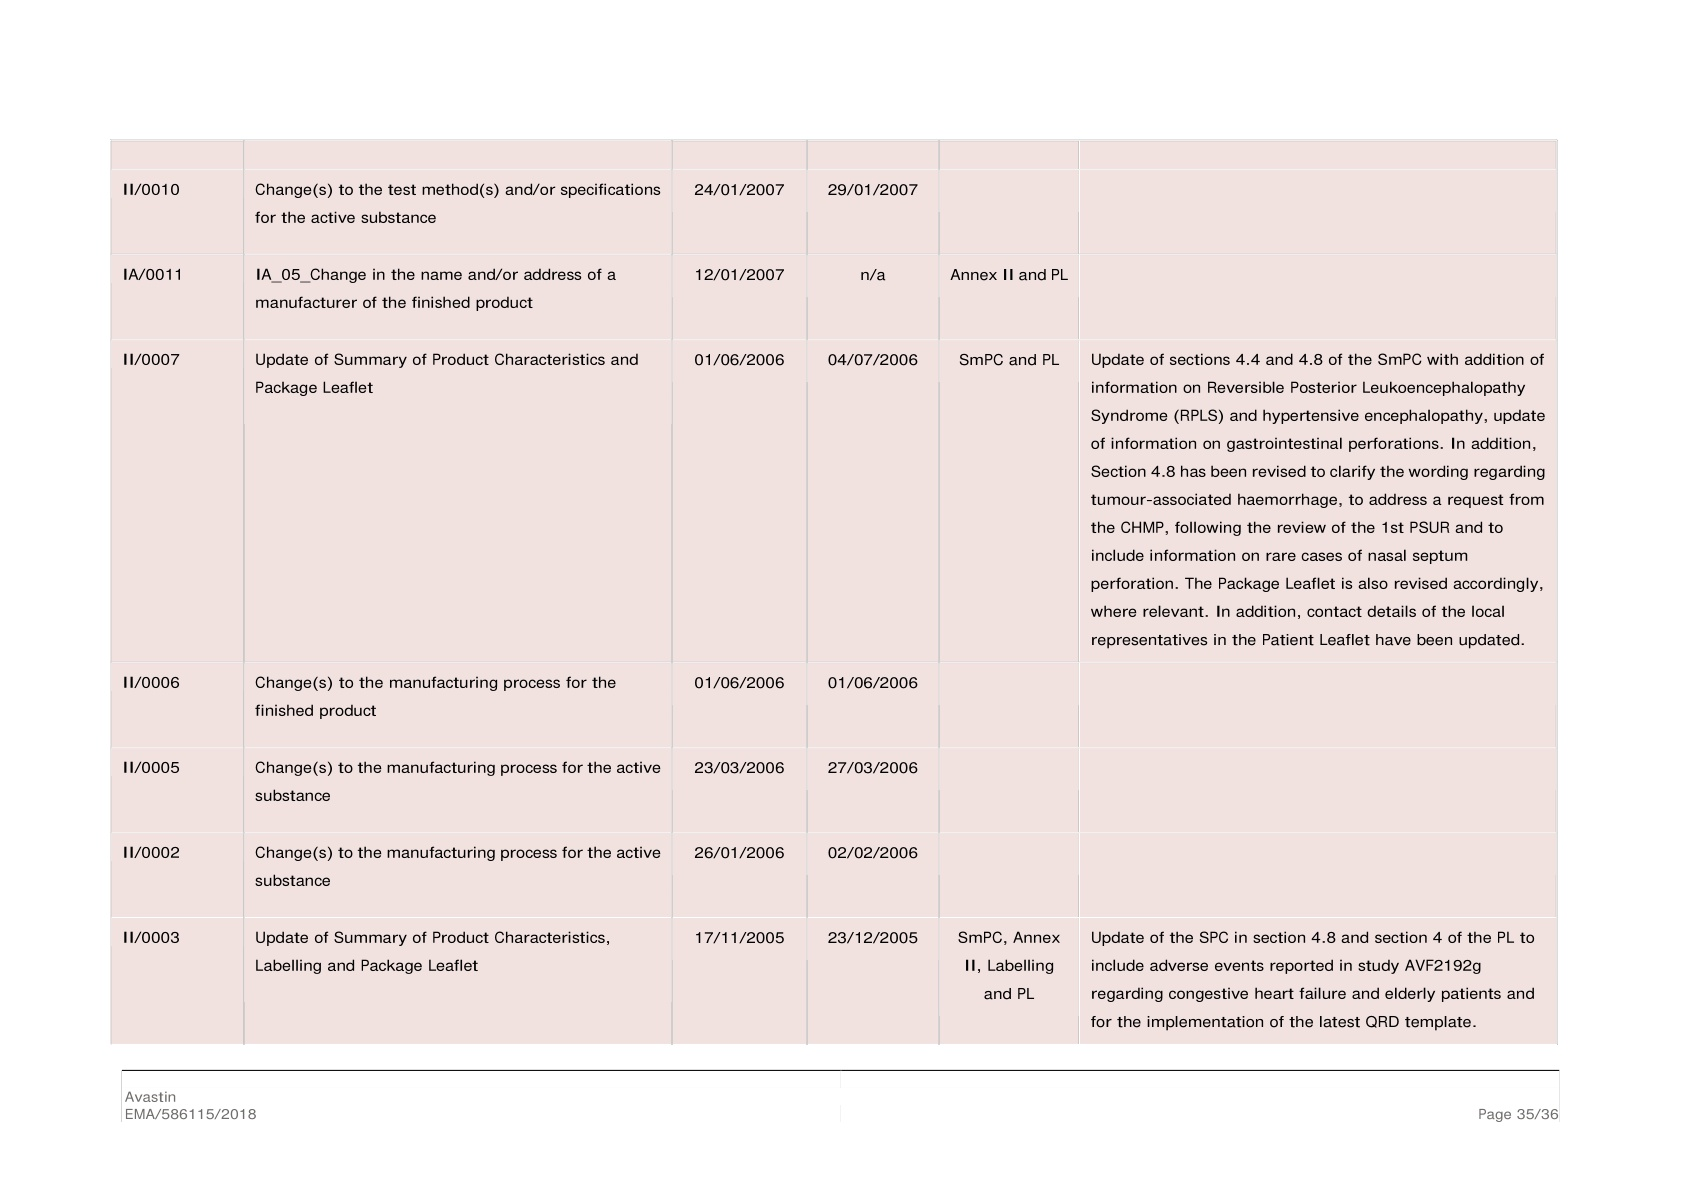full_lined: (109, 137, 1558, 1044)
